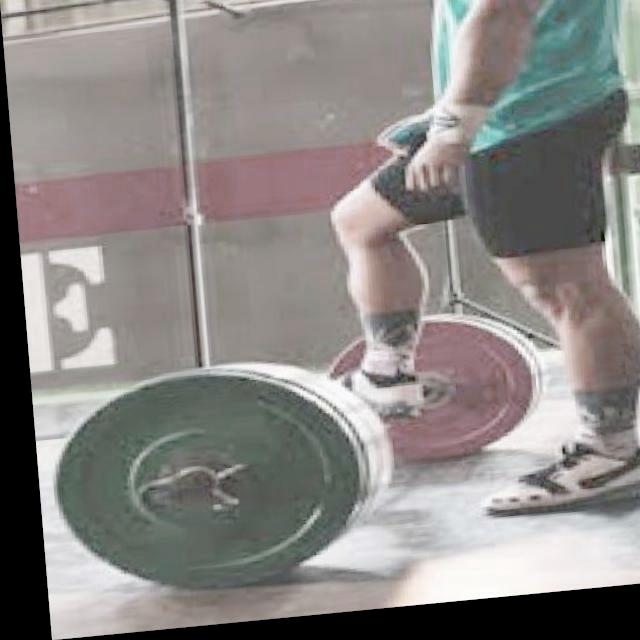barbell: (32, 355, 367, 612)
